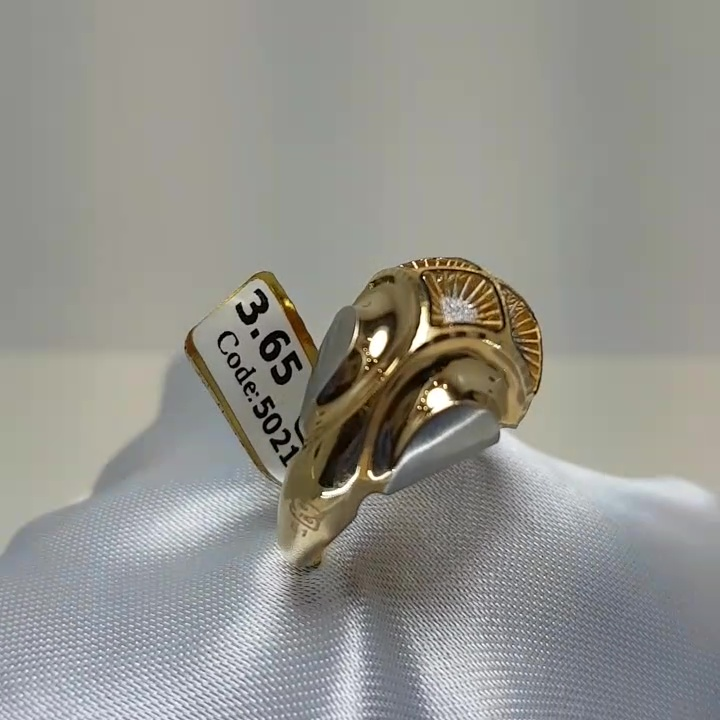Ring 2: (215, 218, 570, 583)
